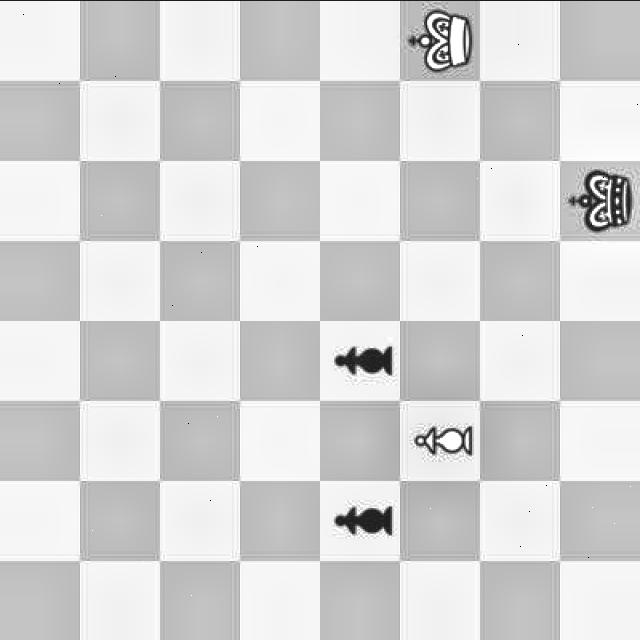black king: (566, 160, 634, 236)
black pawn: (320, 323, 400, 398), (323, 484, 400, 552)
white king: (398, 9, 476, 74)
white pawn: (402, 402, 476, 471)
